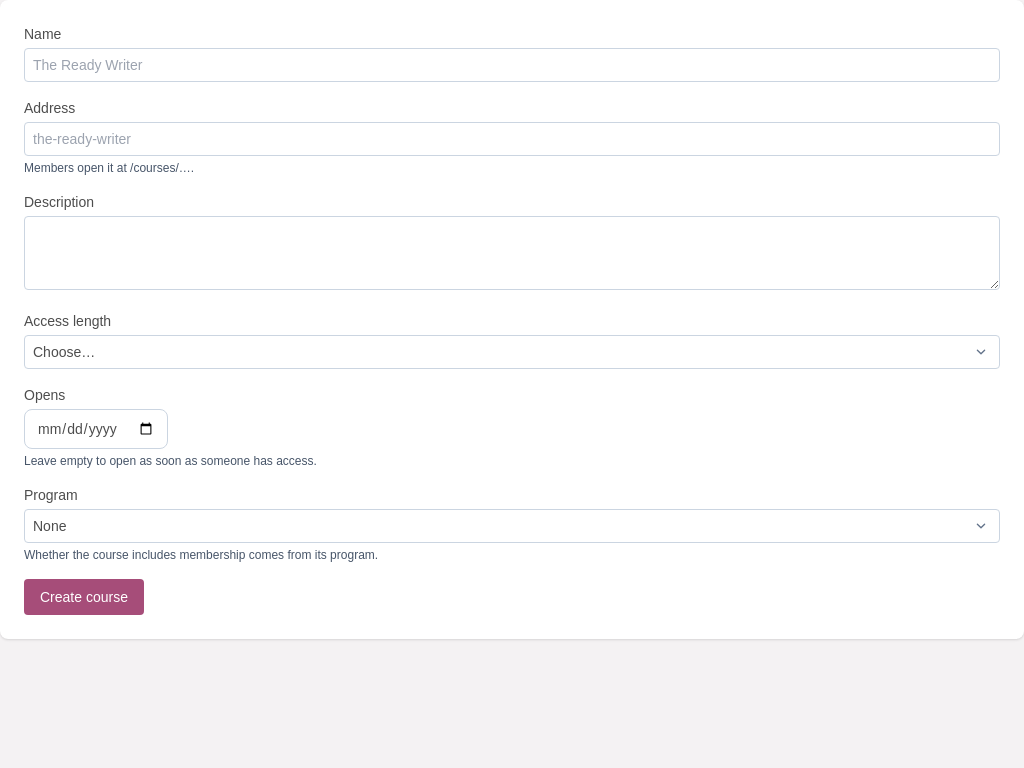
Test: CourseDetailsForm, creating › marks each field the server refused, in the field's own description, and doesn't leave the page
This screenshot has width=1024, height=768.
Click the button "Create course": x=84, y=597 x1=24 y1=579 x2=144 y2=615
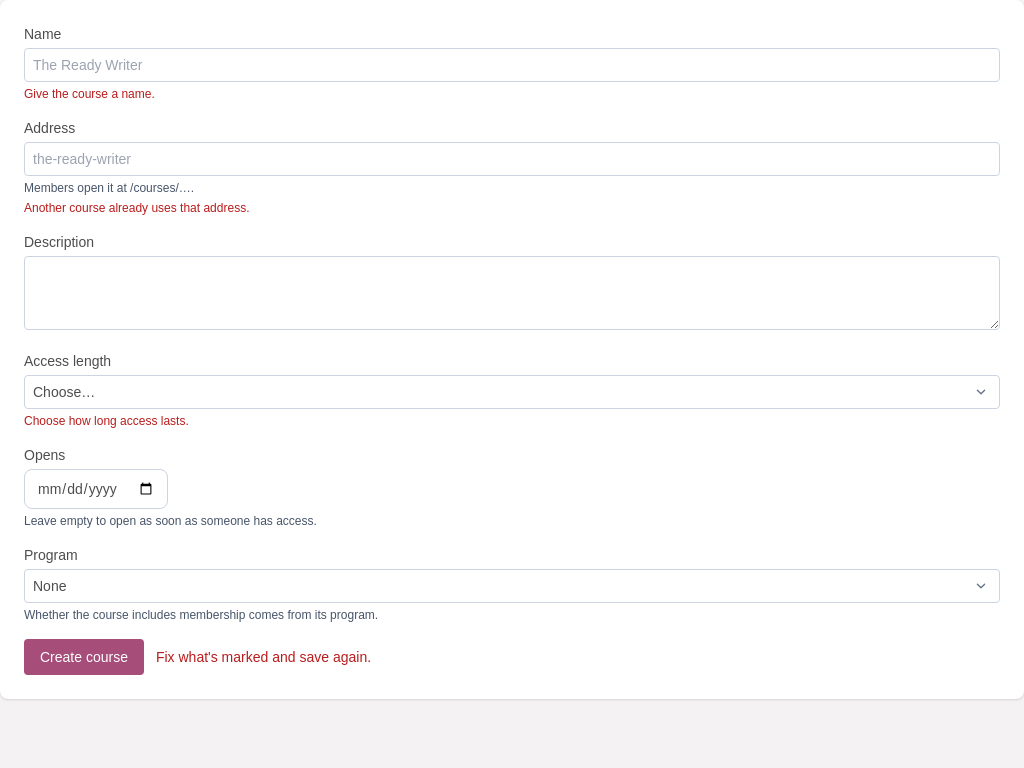
Expected: the text "Give the course a name." is shown, x1=24 y1=87 x2=155 y2=101
Expected: the number of messages is 4, x1=24 y1=87 x2=155 y2=101; x1=24 y1=201 x2=250 y2=215; x1=24 y1=414 x2=189 y2=428; x1=156 y1=647 x2=371 y2=667
Expected: the text "Fix what's marked and save again." is shown, x1=156 y1=647 x2=371 y2=667
